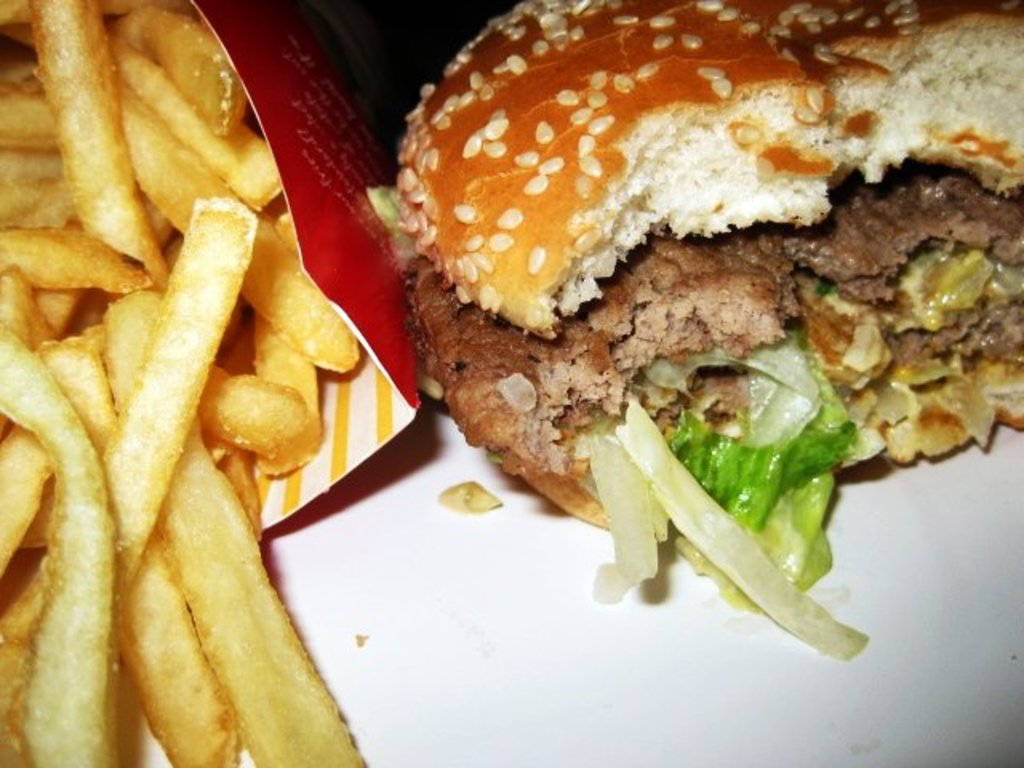French fries: (0, 0, 374, 766)
